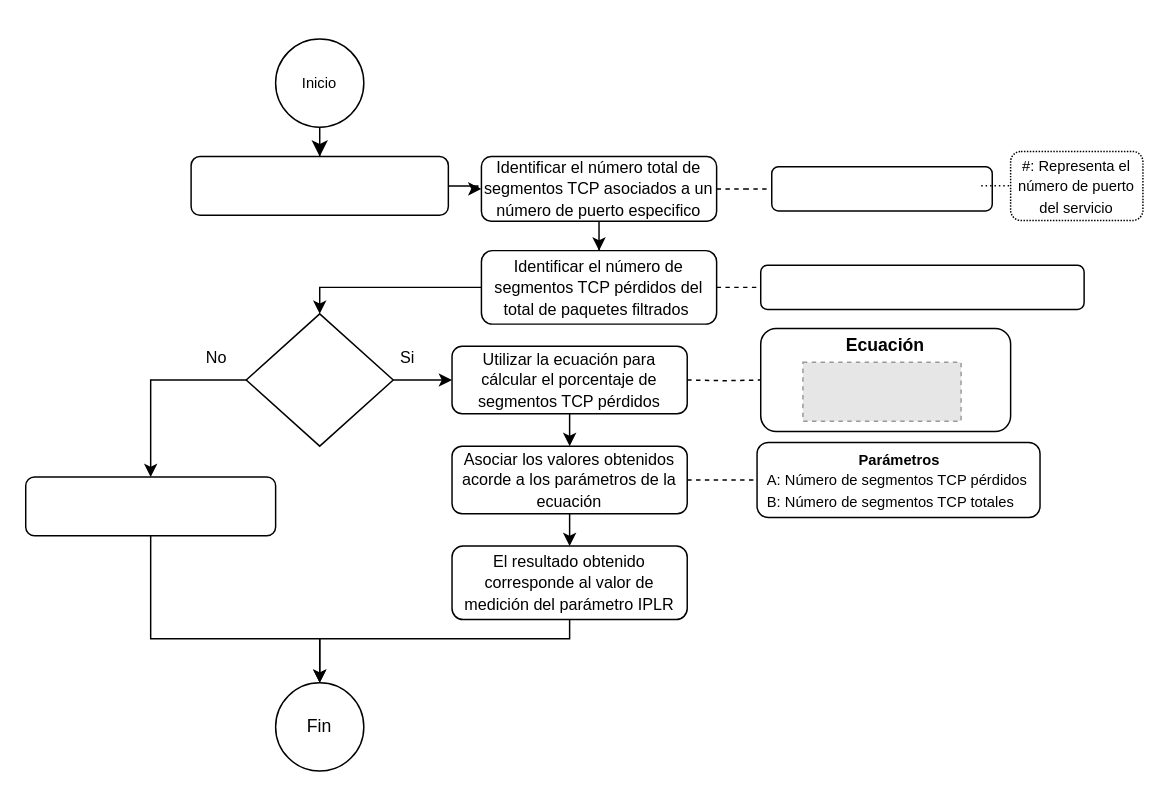
The diagram is 1169 pixels wide and 797 high, and some of its shapes have lost their labels. Grey dashed boxes stand in for pictures. The shapes that lost their labels are listed below. From the top down, each one's centre as x and y in pixels, then its label:
At (x=319, y=185): "Captura del tráfico de la red mediante el software de Wireshark".
At (x=881, y=188): "Filtro Wireshark tcp.port==#".
At (x=921, y=286): "Filtro Wireshark tcp.port==# and tcp.analysis.lost_segment".
At (x=319, y=379): "Segmentos TCP pérdidos > 0".
At (x=150, y=506): "Porcentaje de paquetes perdidos (I PLR=0%)".
